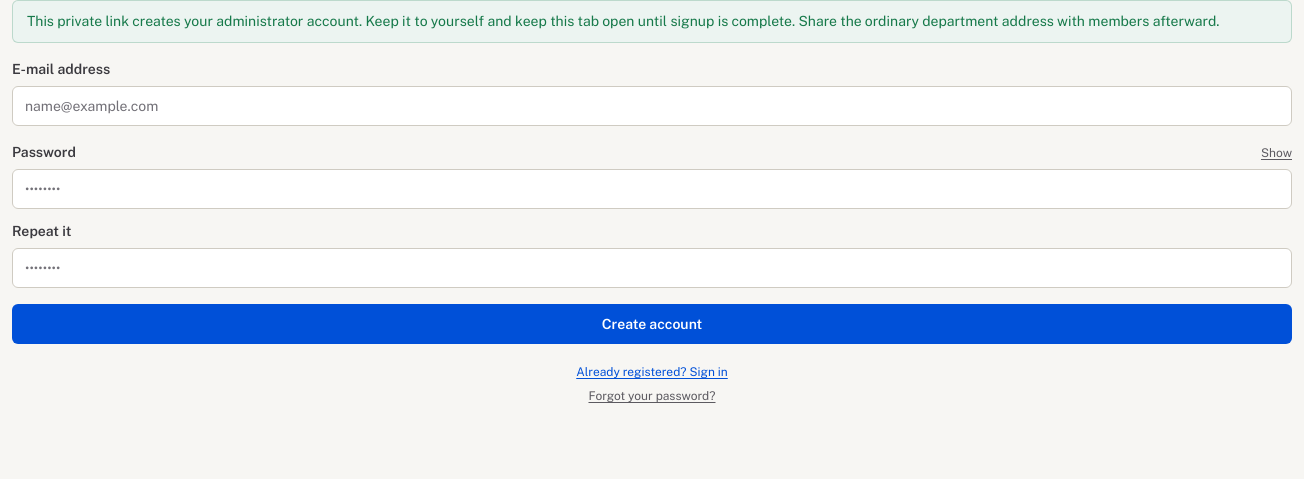
Test: private founder handoff › keeps a refused founder signup recoverable and explains an invalid link
The image size is (1304, 479).
Check: the text "This private link creates your administrator account. Keep it to yourself and keep this tab open until signup is complet" is shown, box [27,13,1220,29]
Type "owner@example.com" into the field labelled "E-mail address" at (652, 106), box [12,86,1292,126]
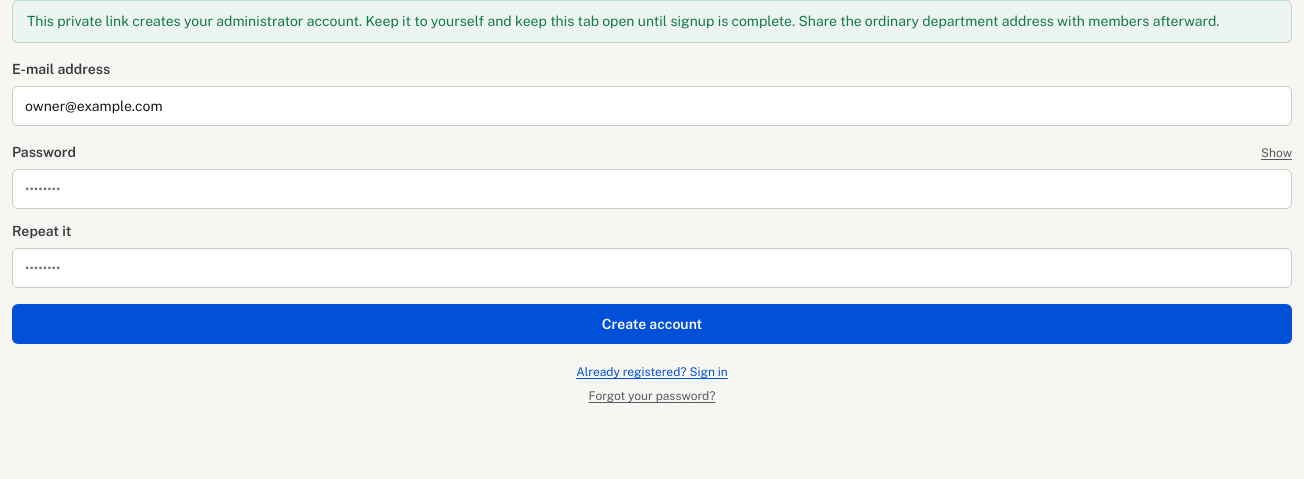
Type "example-password" into the password field labelled "Password" at (652, 189), box [12,169,1292,209]
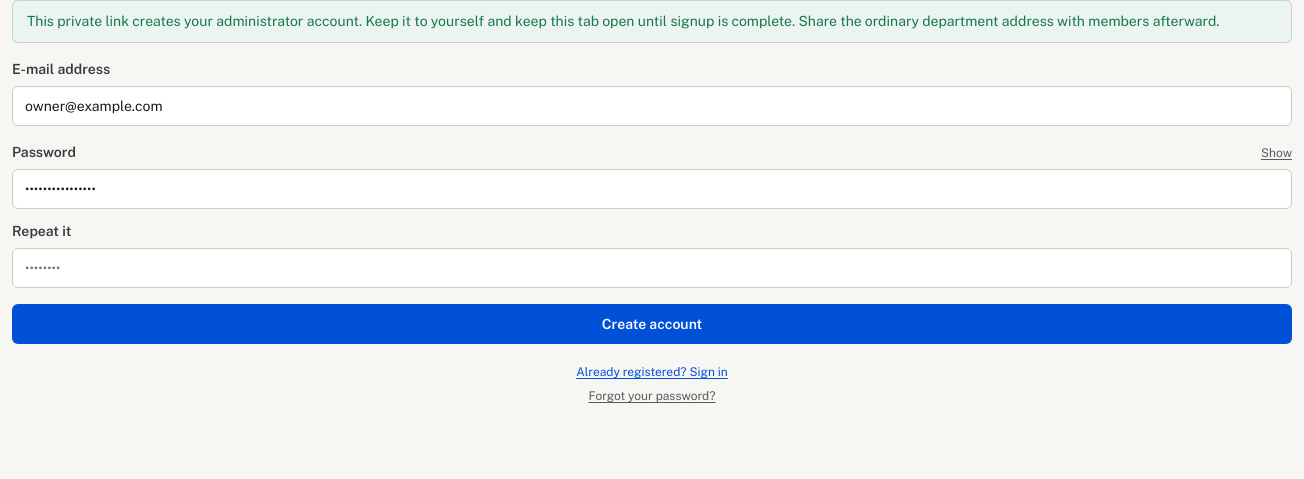
Type "example-password" into the password field labelled "Repeat it" at (652, 268), box [12,248,1292,288]
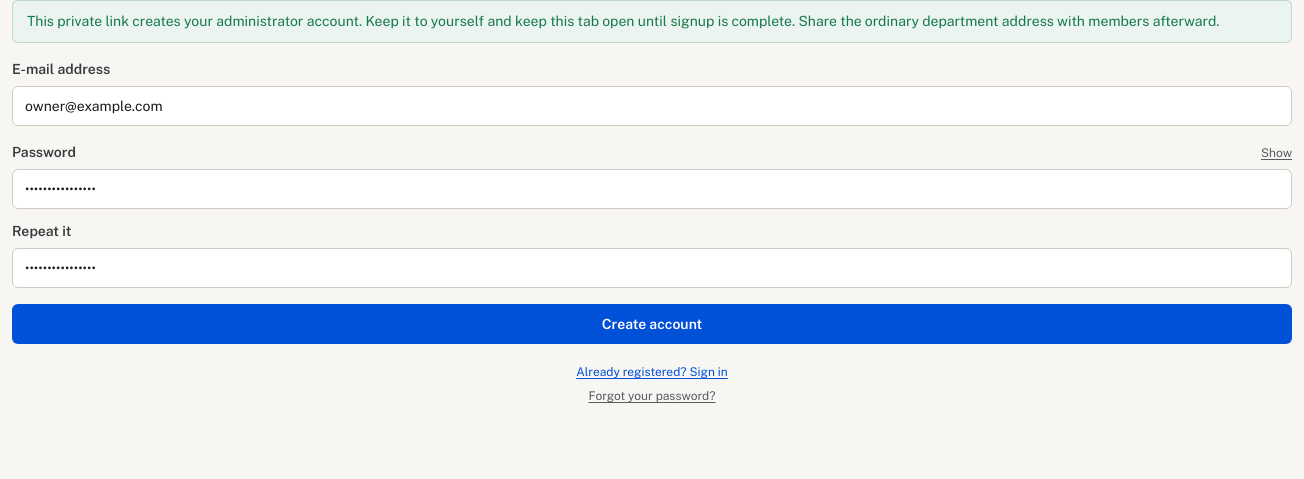
Click the button "Create account" at (652, 324), box [12,304,1292,344]
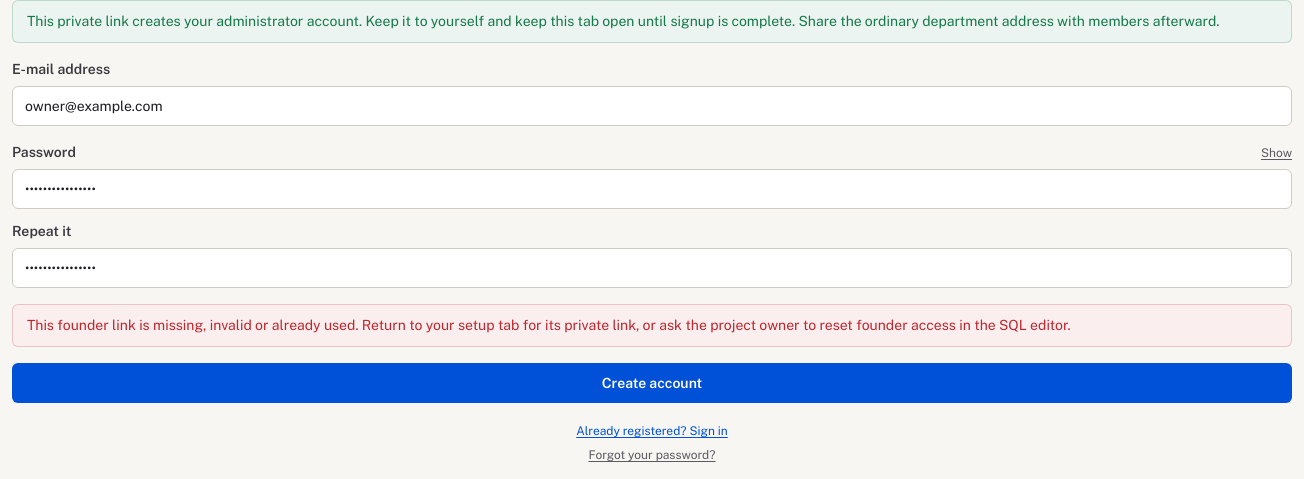
Check: the 2nd message shows "This founder link is missing, invalid or already used. Return to your setup tab for its private link, or ask the project owner to reset founder access in the SQ", box [27,317,1071,333]
